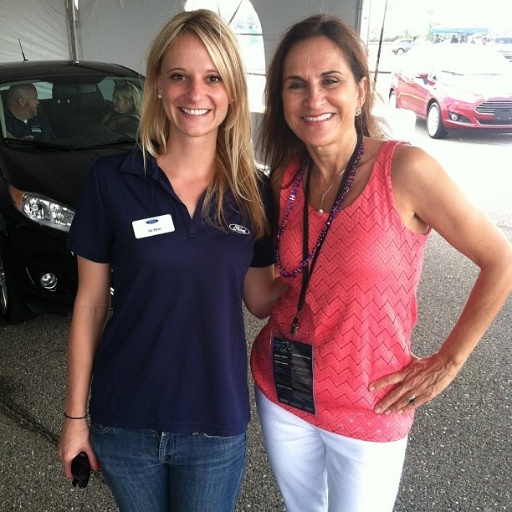hand: (392, 341, 458, 415), (53, 416, 99, 480)
